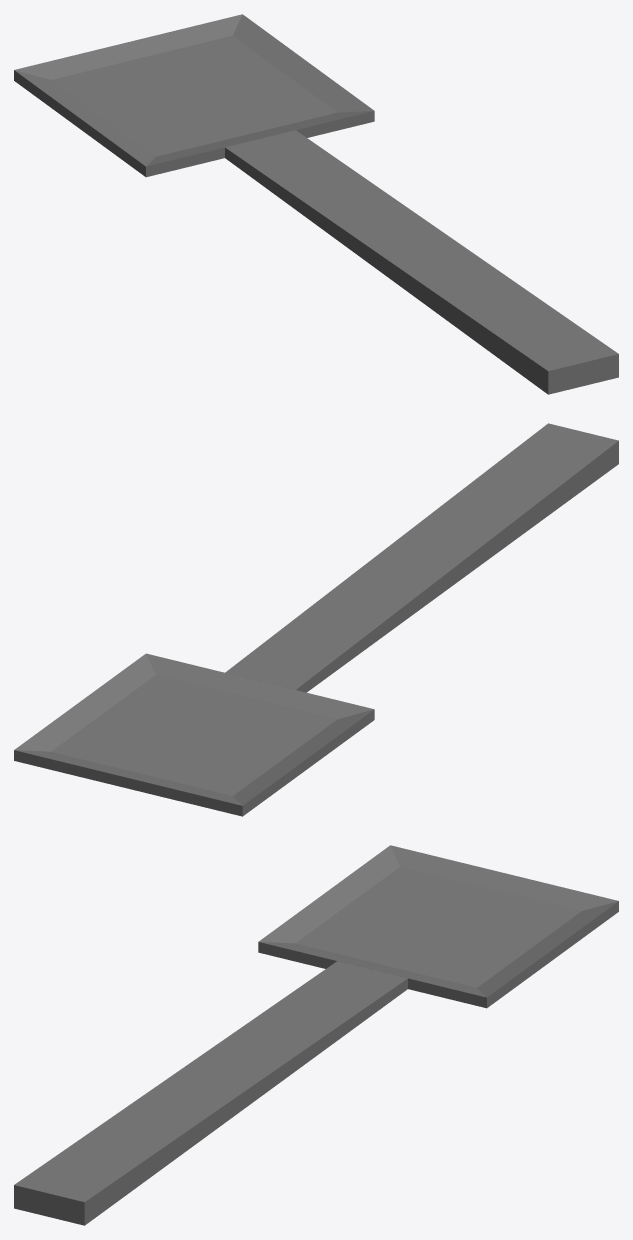
Rendered from Itr_Obj_Spoon_03.FBX.
3 views of the same model, one above another, from view 1: azimuth 30°, elevation 25°; view 2: azimuth 150°, elevation 25°; view 3: azimuth 330°, elevation 25° (orthographic).
Visible parts, largest first — view 1: Itr_Obj_Spoon_03; view 2: Itr_Obj_Spoon_03; view 3: Itr_Obj_Spoon_03.
Part boxes in pixels (bbox=[...]): Itr_Obj_Spoon_03: bbox=[14, 14, 618, 394]; Itr_Obj_Spoon_03: bbox=[14, 423, 618, 816]; Itr_Obj_Spoon_03: bbox=[14, 845, 618, 1225].
Bounding box in the file's own units: 1.41 × 0.1387 × 4.87.
